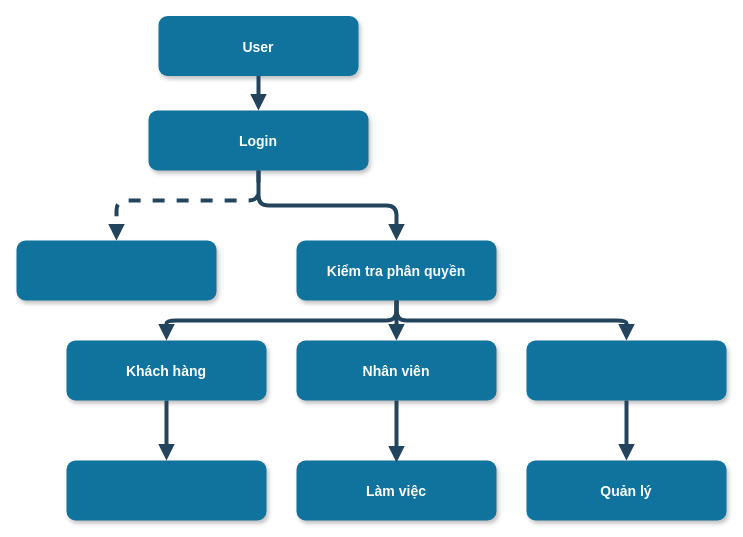
Some shapes in this 743 by 537 pixel diagram are drawn without their labels. The shapes that lost their labels are listed below. From the top down, each one's centre as x and y in pixels, then its label:
At (117,271): "Sai, Báo lỗi".
At (627,371): "Admin".
At (167,491): "Mua sắm, đặt lịch".
